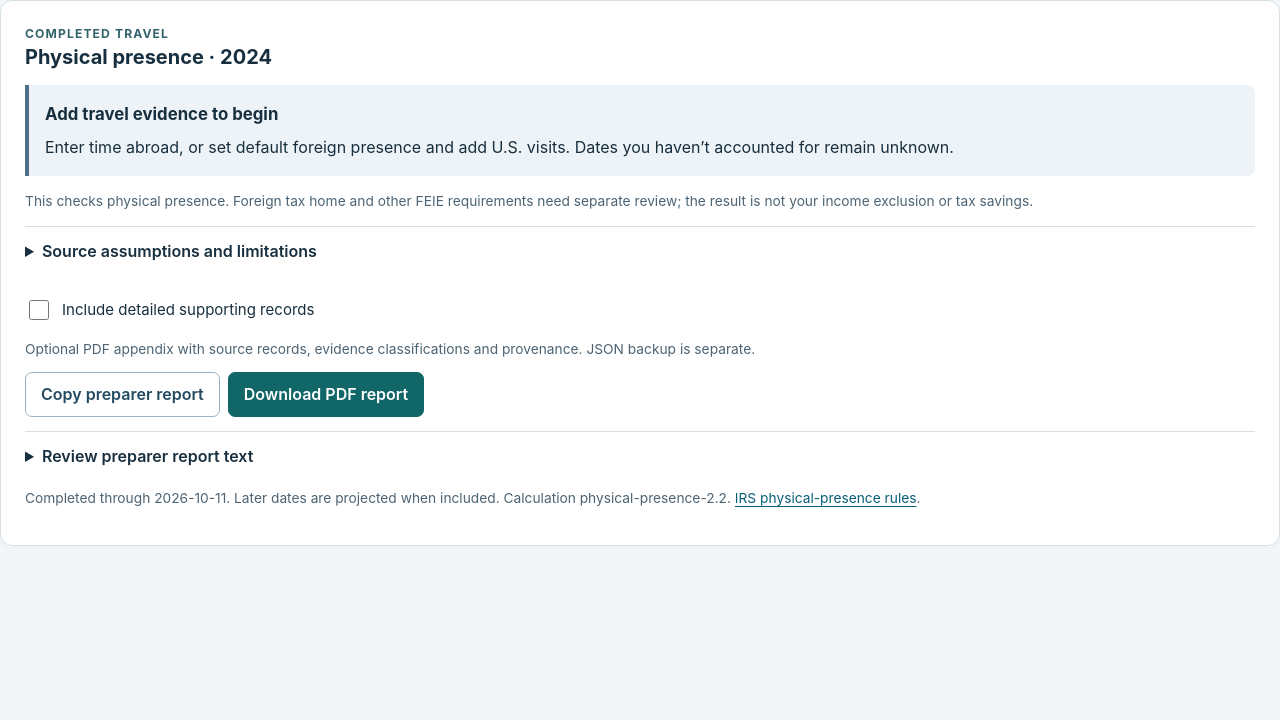
Scenario: report export fallbacks › reports PDF failure visibly and re-enables export
Click the button "Download PDF report": (326, 394) 228,372 -> 424,417
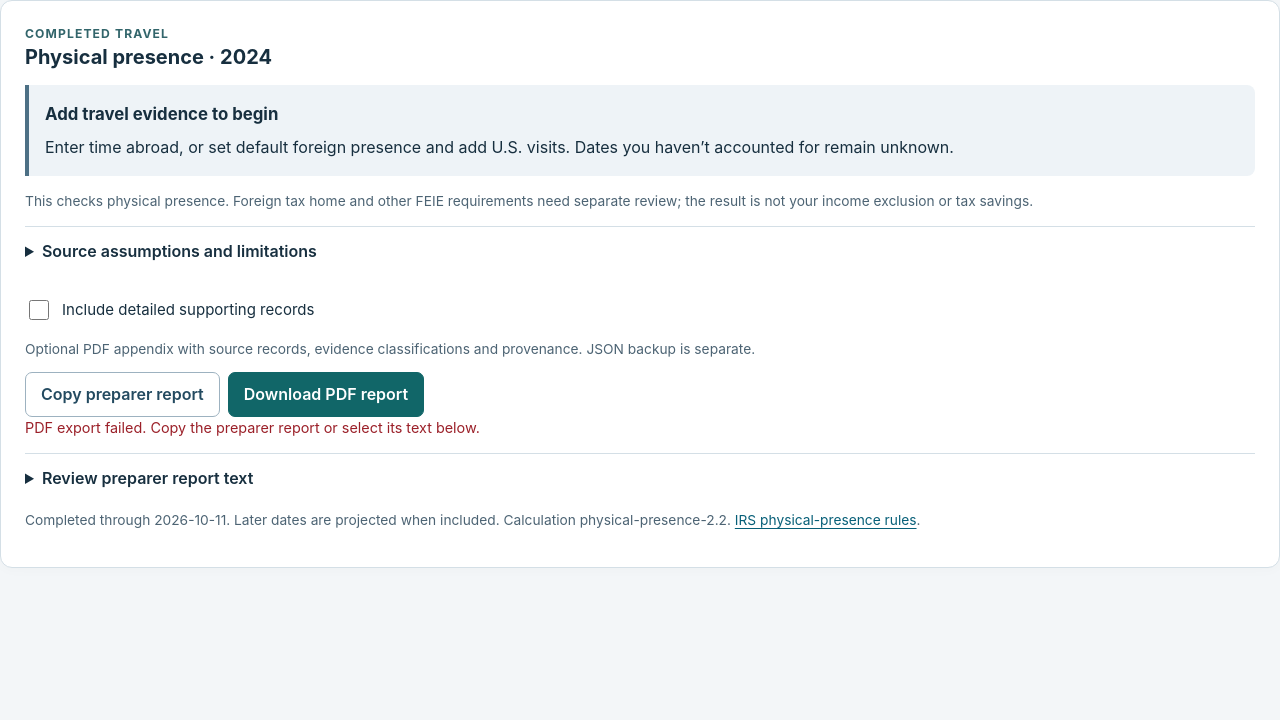
Check: the message "PDF export failed. Copy the preparer report or select its text below." is shown, box 25,419 -> 480,436
